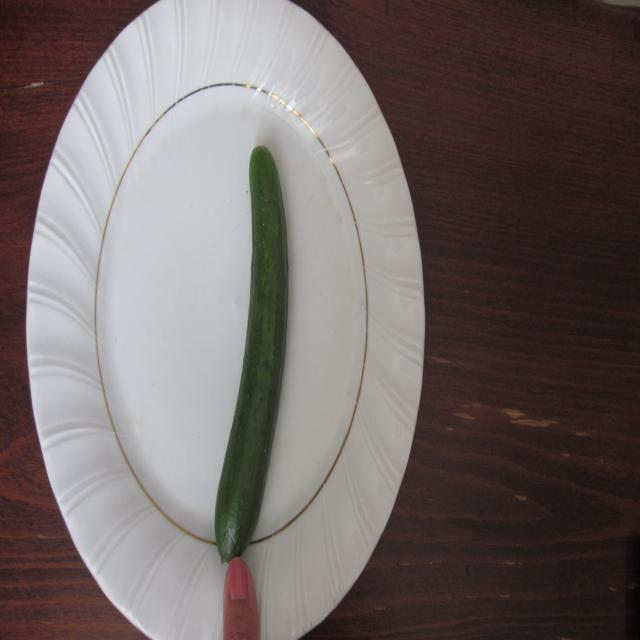cucumber: (212, 145, 300, 567)
